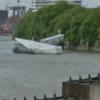Boat: (10, 28, 66, 65)
